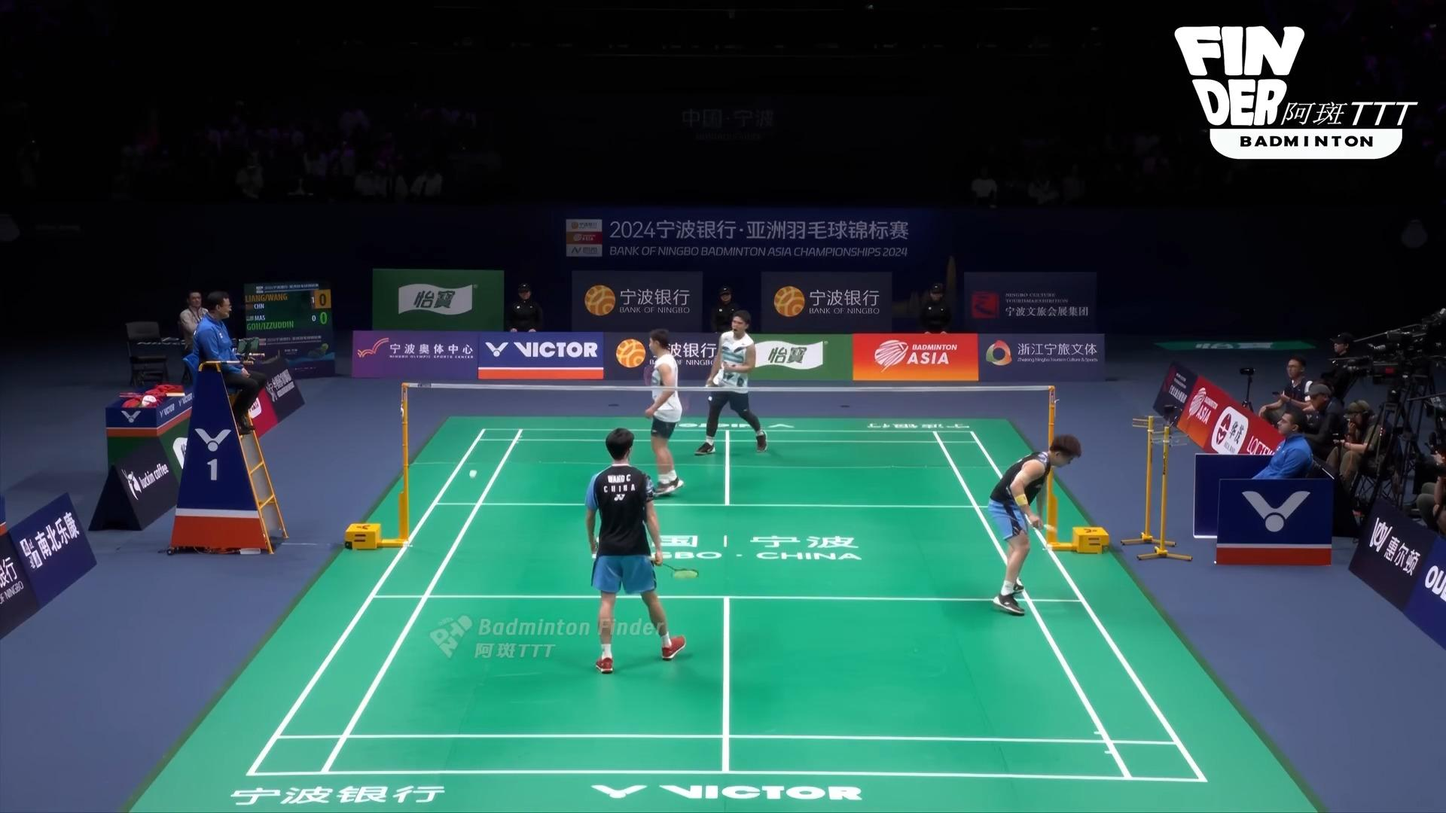shuttlecock: (468, 469, 477, 479)
